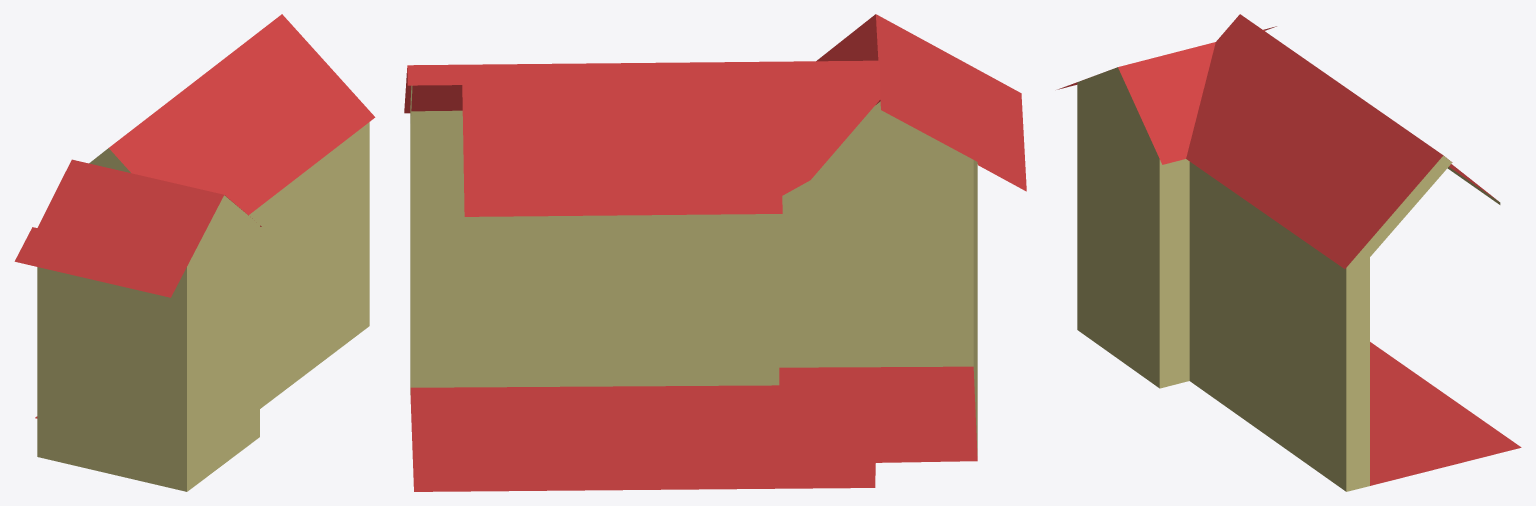
3 renders of one model, left to right at view 1: azimuth 30°, elevation 25°; view 2: azimuth 150°, elevation 25°; view 3: azimuth 270°, elevation 25°, orthographic. The views are drawn at different scales.
Bounding box in the file's own units: 31.4 × 27.98 × 20.78.
